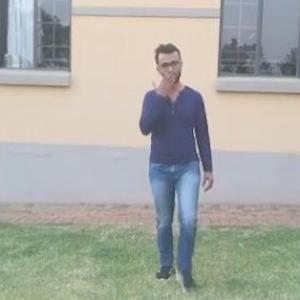follow: (134, 45, 200, 259)
